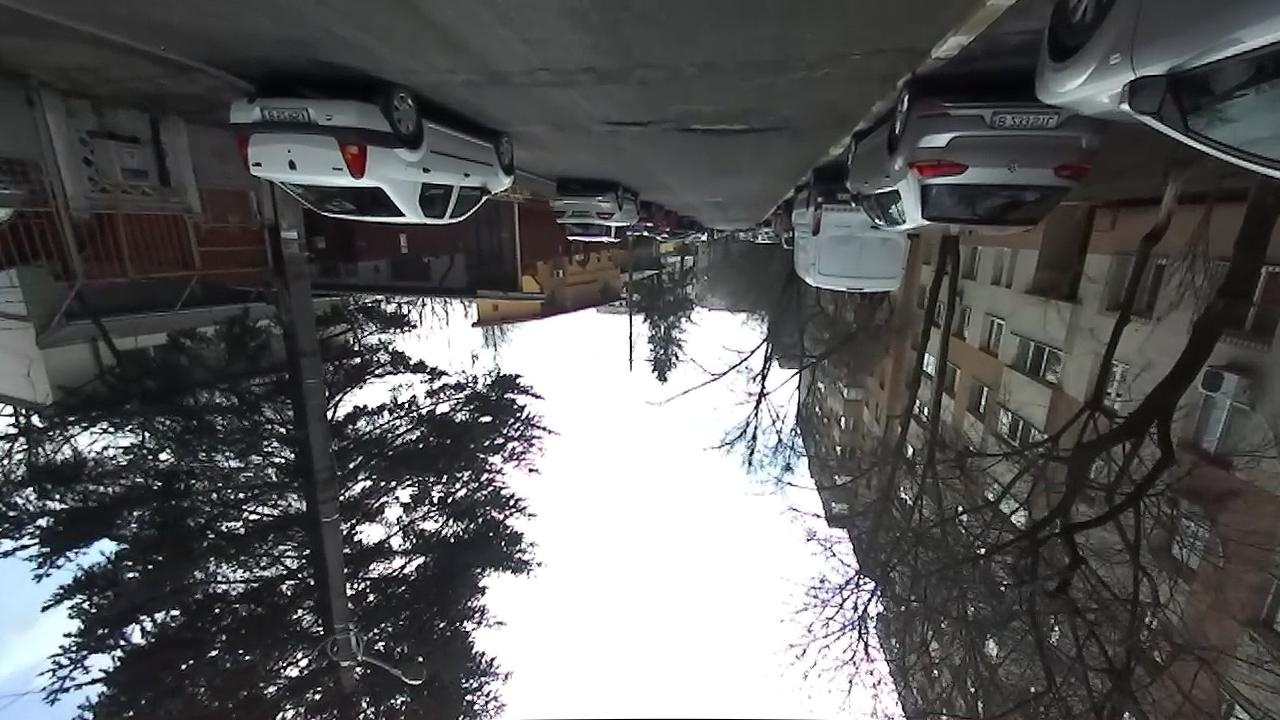pothole: (676, 116, 791, 139), (601, 116, 658, 129)
